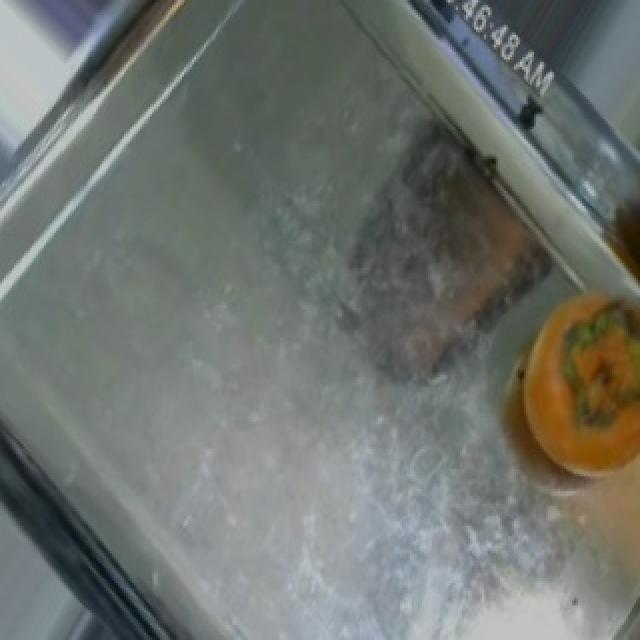Fruit: (488, 275, 640, 506)
